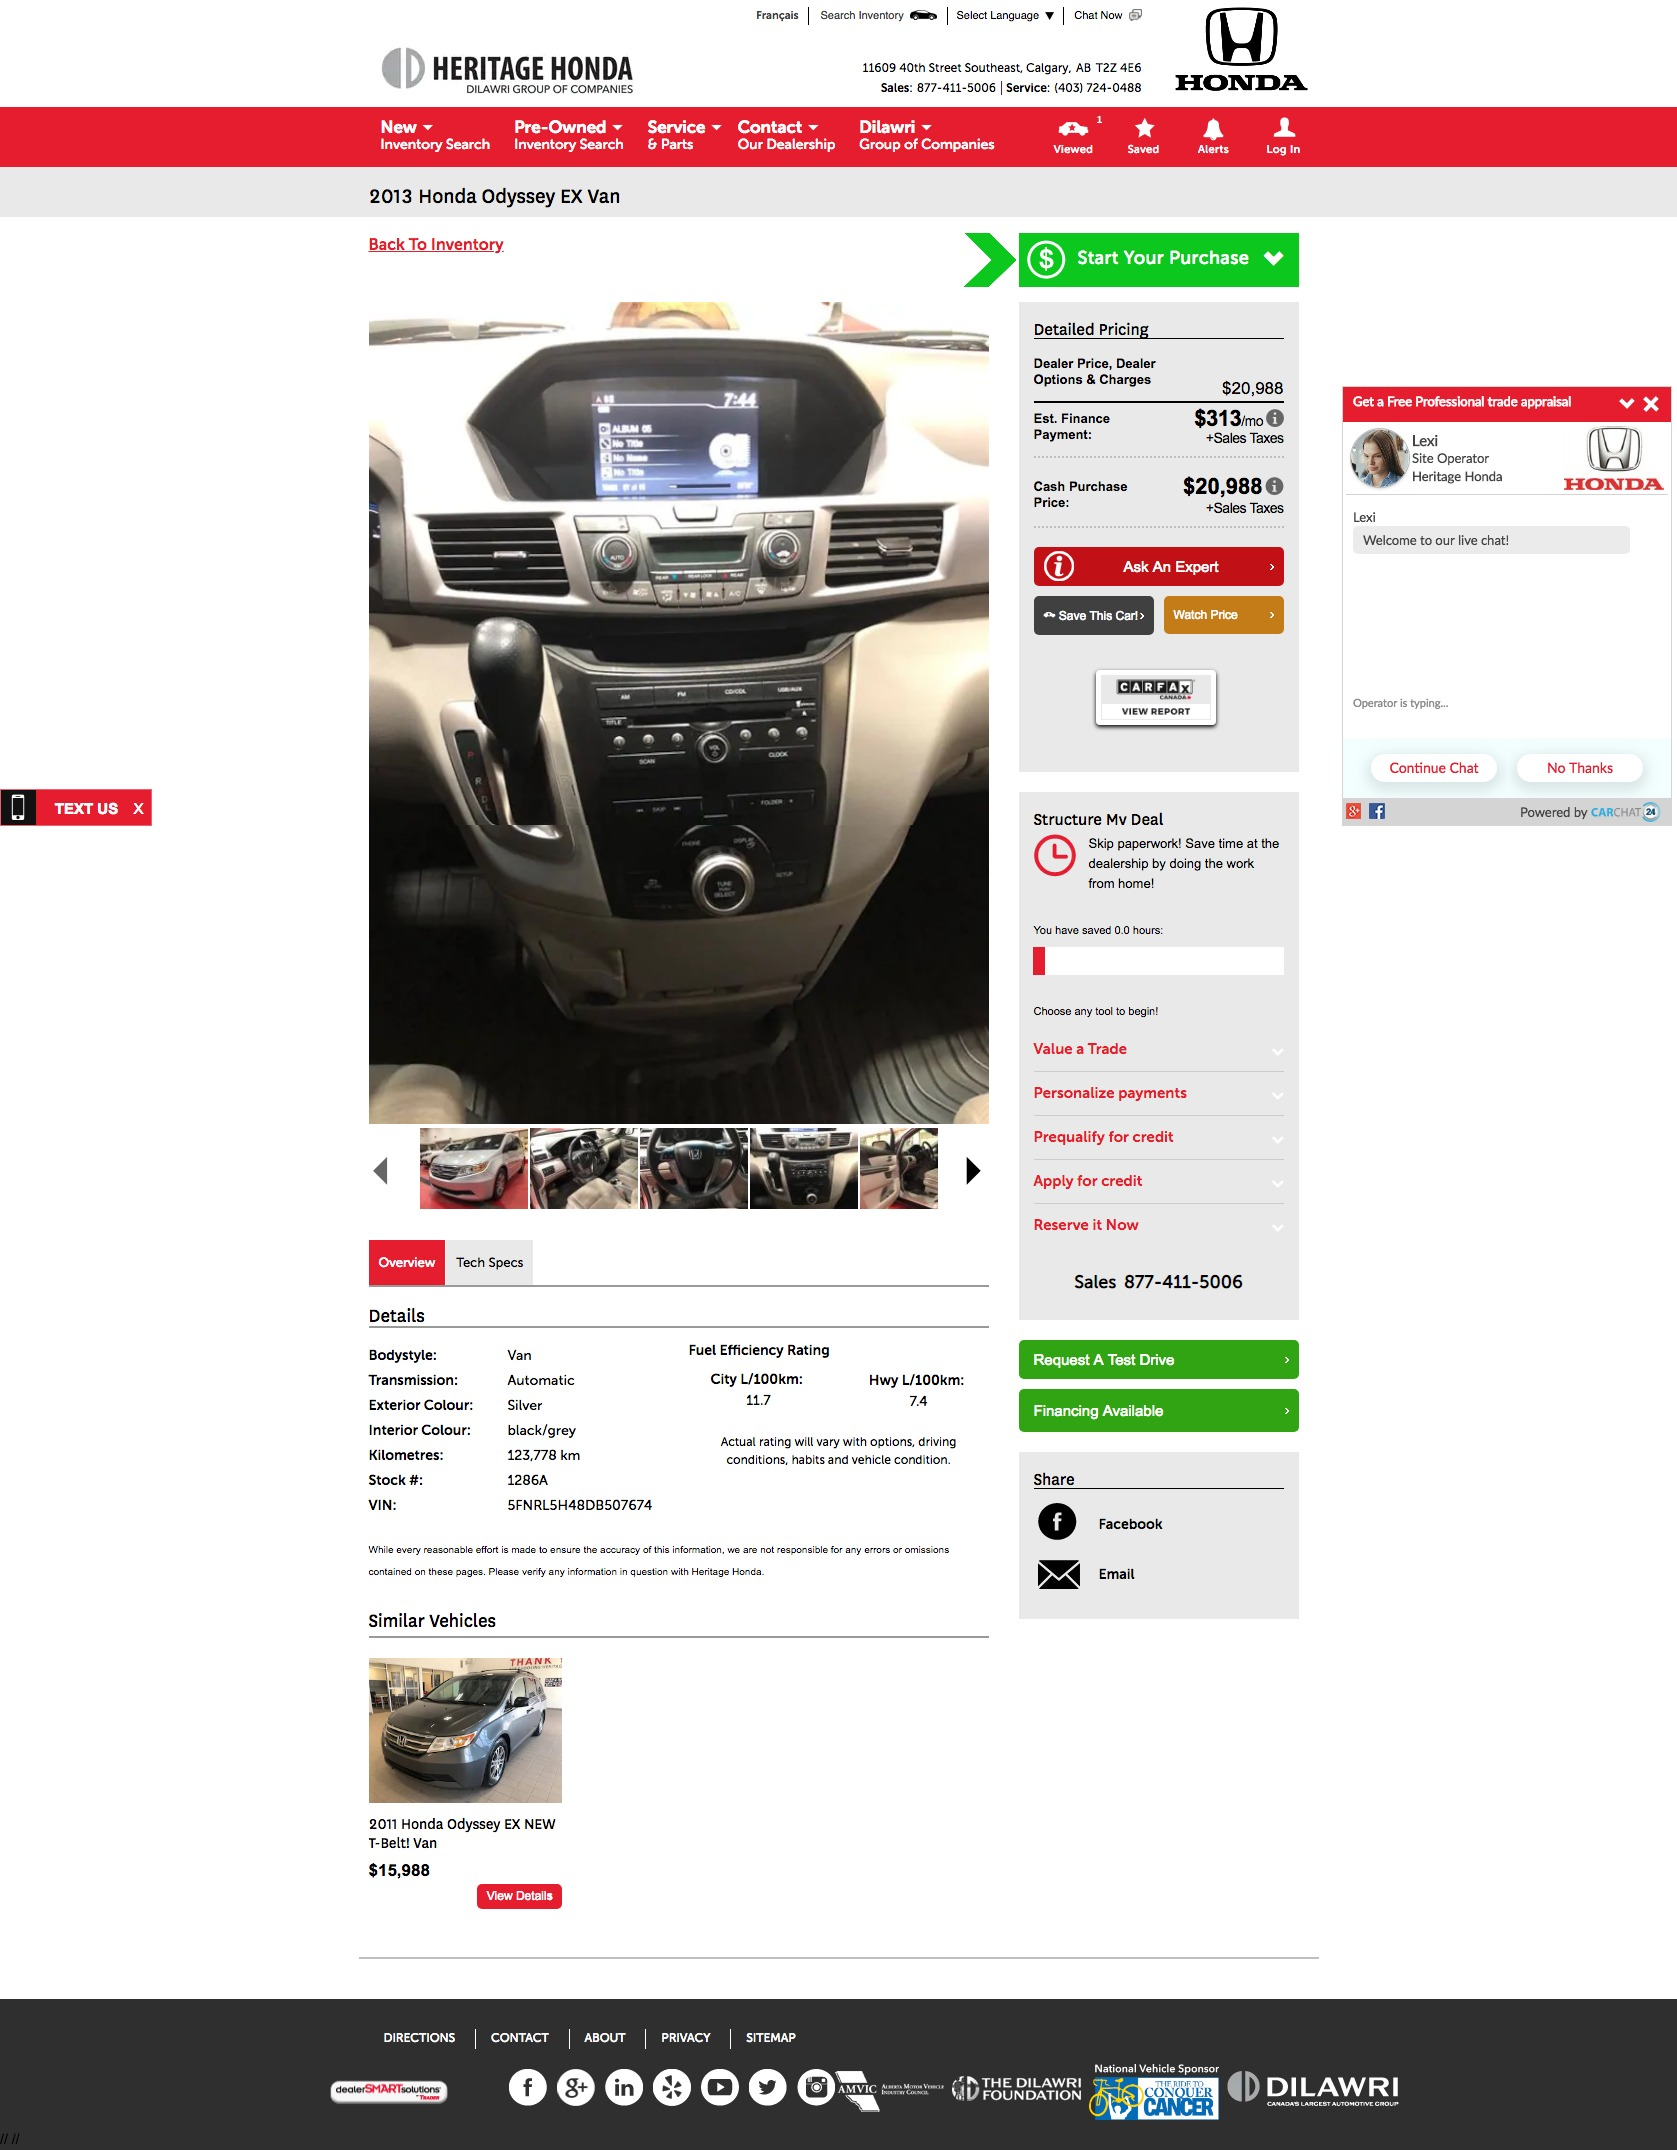car: (967, 1157, 982, 1185)
